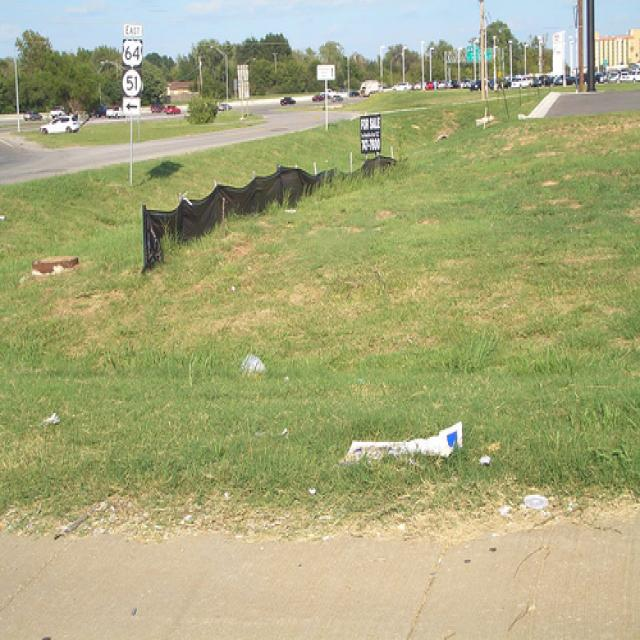Vehicle: (40, 116, 79, 134), (390, 82, 411, 92), (23, 112, 42, 122), (539, 74, 554, 85), (166, 105, 180, 115), (281, 98, 295, 106), (520, 77, 532, 86), (438, 81, 453, 88), (312, 93, 325, 101), (426, 81, 435, 91), (350, 92, 360, 97)
